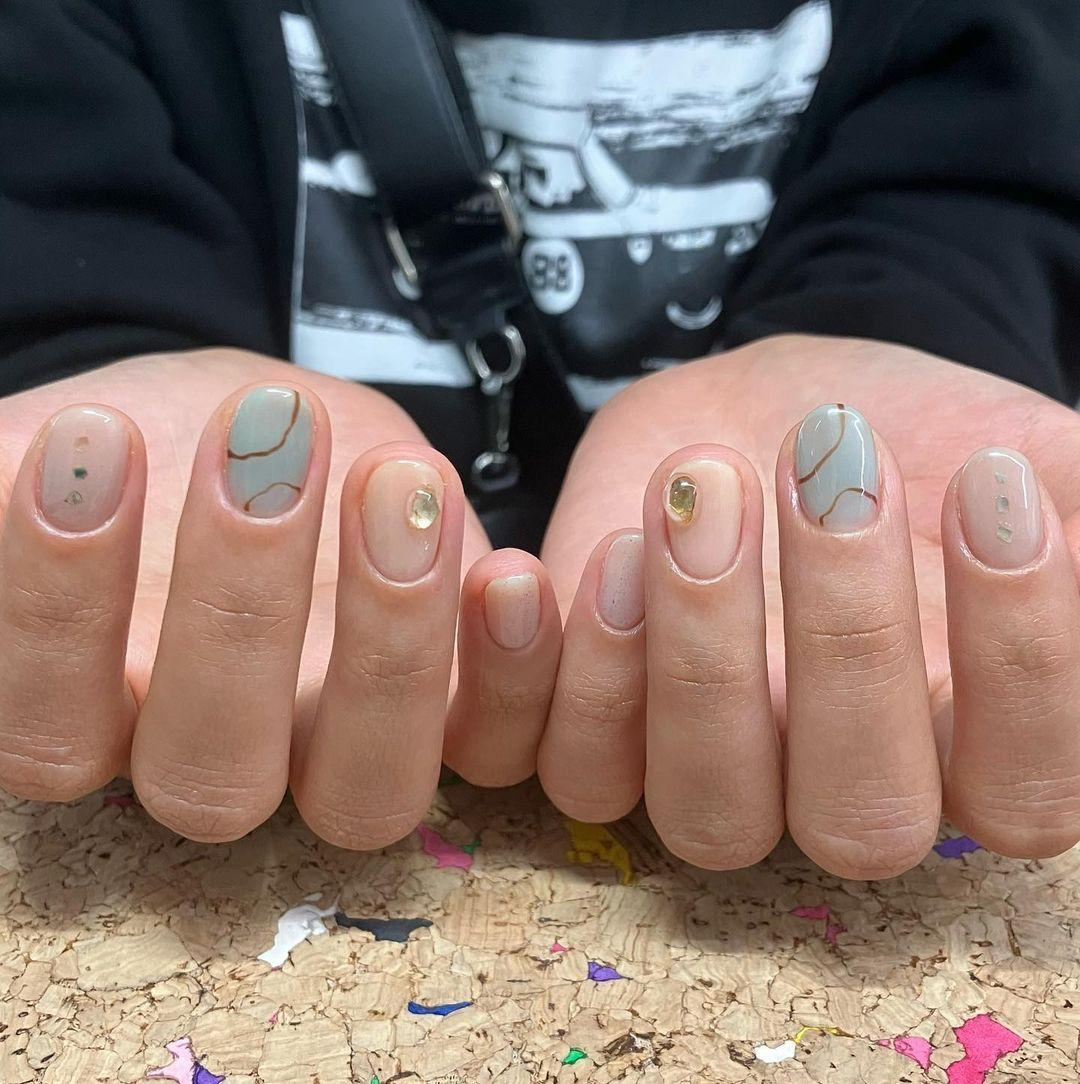nail: (128, 377, 332, 844), (774, 400, 942, 881), (290, 440, 466, 851), (641, 441, 784, 871), (535, 526, 647, 824), (441, 545, 563, 789), (952, 444, 1047, 572), (792, 400, 880, 532), (359, 455, 445, 584), (659, 454, 744, 583), (593, 529, 646, 635), (481, 570, 541, 652)
